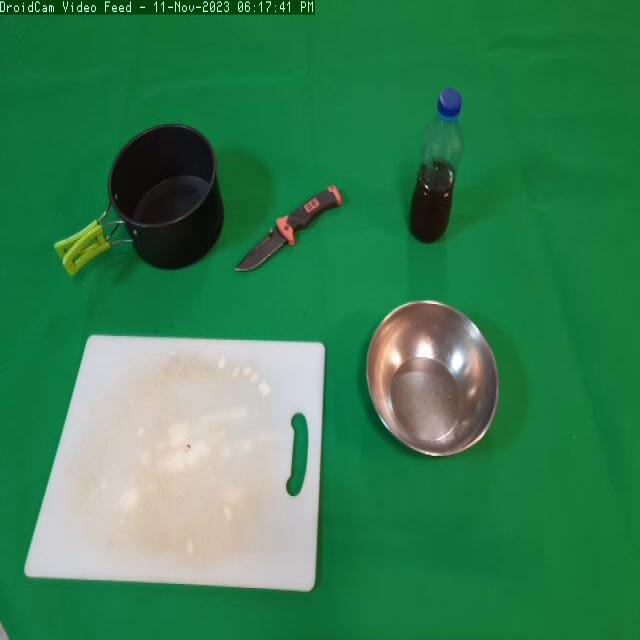bowl: (361, 296, 506, 468)
cutting board: (13, 316, 337, 615)
fullbottle: (405, 82, 467, 255)
knife: (230, 179, 344, 284)
pot: (55, 122, 230, 287)
